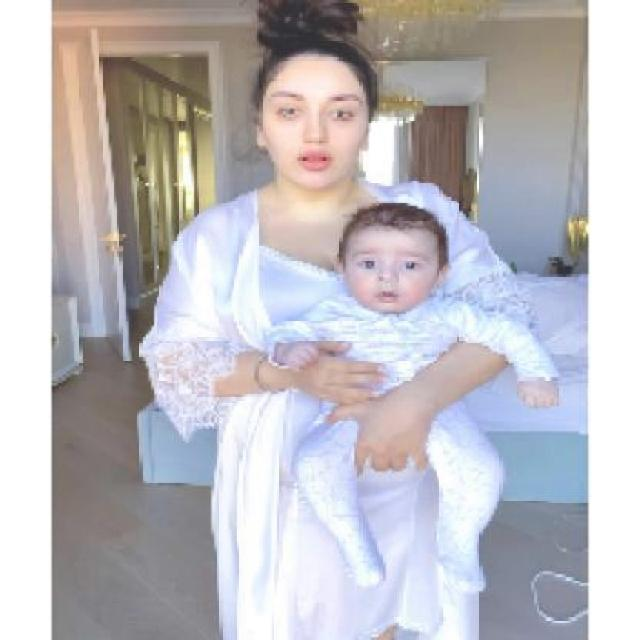child: (260, 202, 566, 638)
